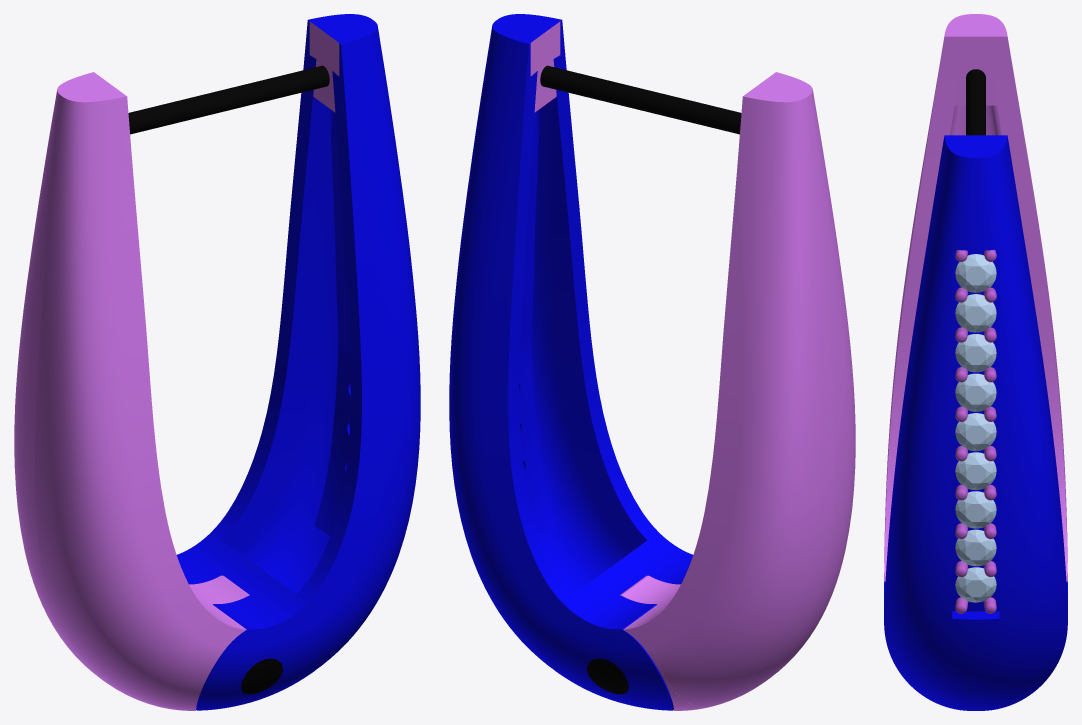
3 views of the same model, side by side, from view 1: azimuth 30°, elevation 25°; view 2: azimuth 150°, elevation 25°; view 3: azimuth 270°, elevation 25° (orthographic). The views are drawn at different scales.
Visible parts, largest first — view 1: brinco jerson gota render02.3dm; view 2: brinco jerson gota render02.3dm; view 3: brinco jerson gota render02.3dm, Gems Curve (×9).
Boxes of the visible parts, bbox=[...] form: brinco jerson gota render02.3dm: bbox=[14, 14, 420, 710]; brinco jerson gota render02.3dm: bbox=[449, 14, 855, 710]; brinco jerson gota render02.3dm: bbox=[884, 14, 1067, 710]; Gems Curve (×9): bbox=[955, 254, 996, 602].
Bounding box in the file's own units: 1.99 × 3.35 × 0.9189.
